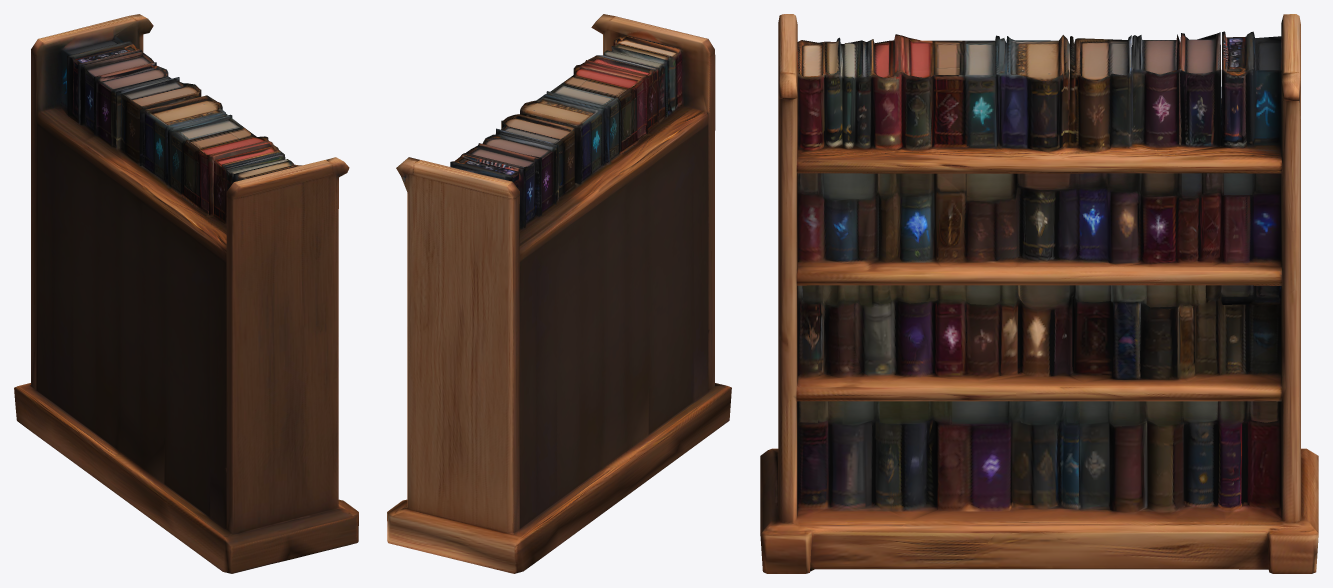
The model's file is cursed+bookshelf+3d+model.obj.
The picture shows the model from 3 angles, left to right: view 1: azimuth 30°, elevation 25°; view 2: azimuth 150°, elevation 25°; view 3: azimuth 270°, elevation 25°; orthographic projection. The views are drawn at different scales.
Parts seen in each view (by area): view 1: tripo_node_6056215b-b2f9-4482-8c2a-4111f5b4dcfb; view 2: tripo_node_6056215b-b2f9-4482-8c2a-4111f5b4dcfb; view 3: tripo_node_6056215b-b2f9-4482-8c2a-4111f5b4dcfb.
Part boxes in pixels (x1=…): tripo_node_6056215b-b2f9-4482-8c2a-4111f5b4dcfb: x1=14, y1=14, x2=358, y2=573; tripo_node_6056215b-b2f9-4482-8c2a-4111f5b4dcfb: x1=387, y1=14, x2=731, y2=573; tripo_node_6056215b-b2f9-4482-8c2a-4111f5b4dcfb: x1=760, y1=14, x2=1318, y2=573.
Size of the model in its own units: 0.3539 by 0.9645 by 1.
Materials: 1 (1 with a texture image).
